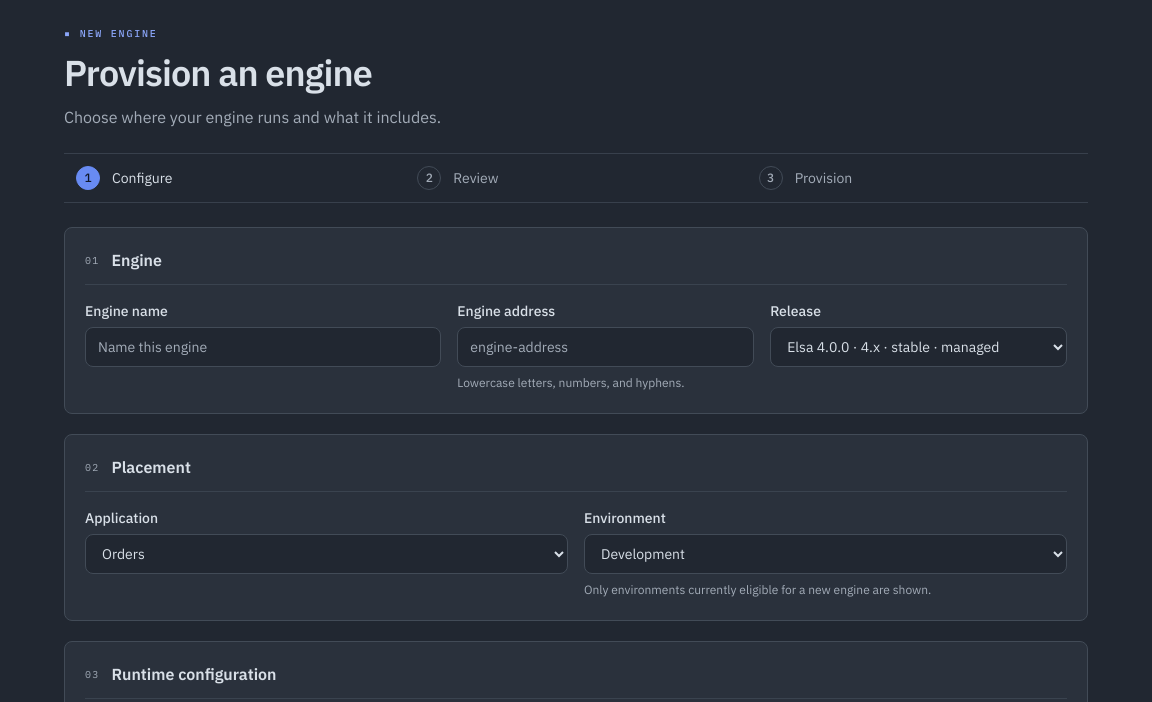
Test: EngineProvisioningPage › separates the included runtime snapshot from server findings during review
The width and height of the screenshot is (1152, 702).
Expected: the heading "Provision an engine" is shown, x1=64 y1=49 x2=372 y2=96
In the field labelled "Engine name": (263, 347) x1=85 y1=327 x2=441 y2=367, type "Orders engine"
(page scrolled)
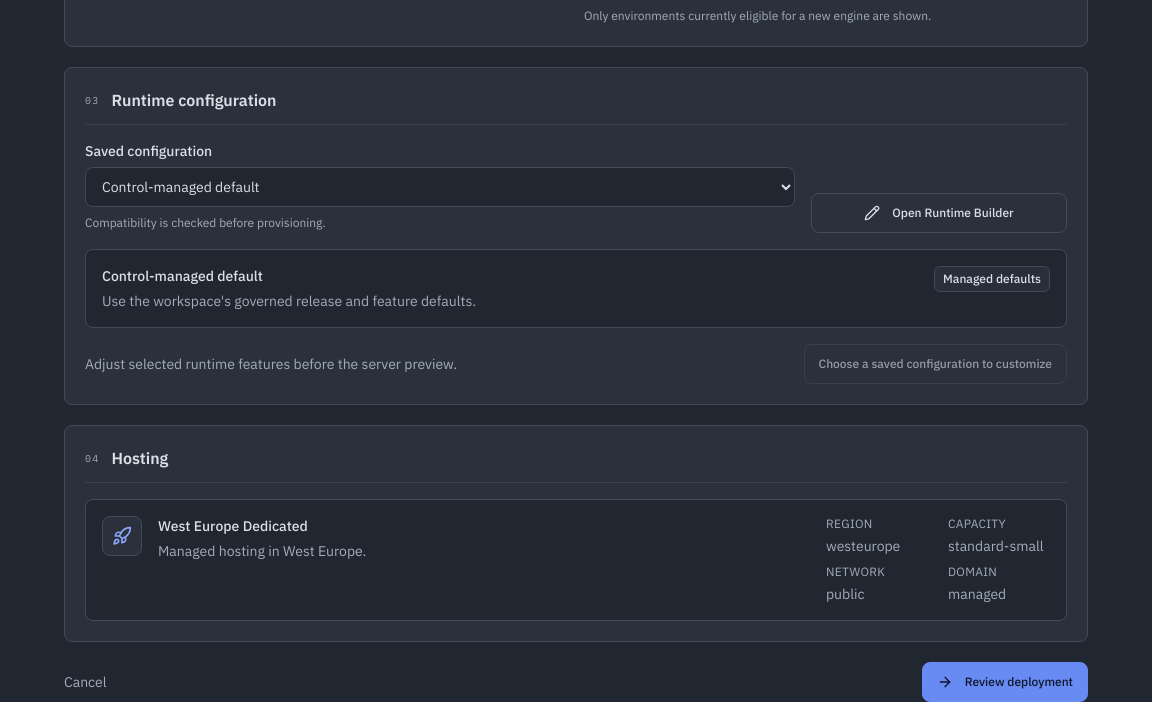
Click the button "Review deployment": click(1005, 682) x1=922 y1=662 x2=1088 y2=701
(page scrolled)
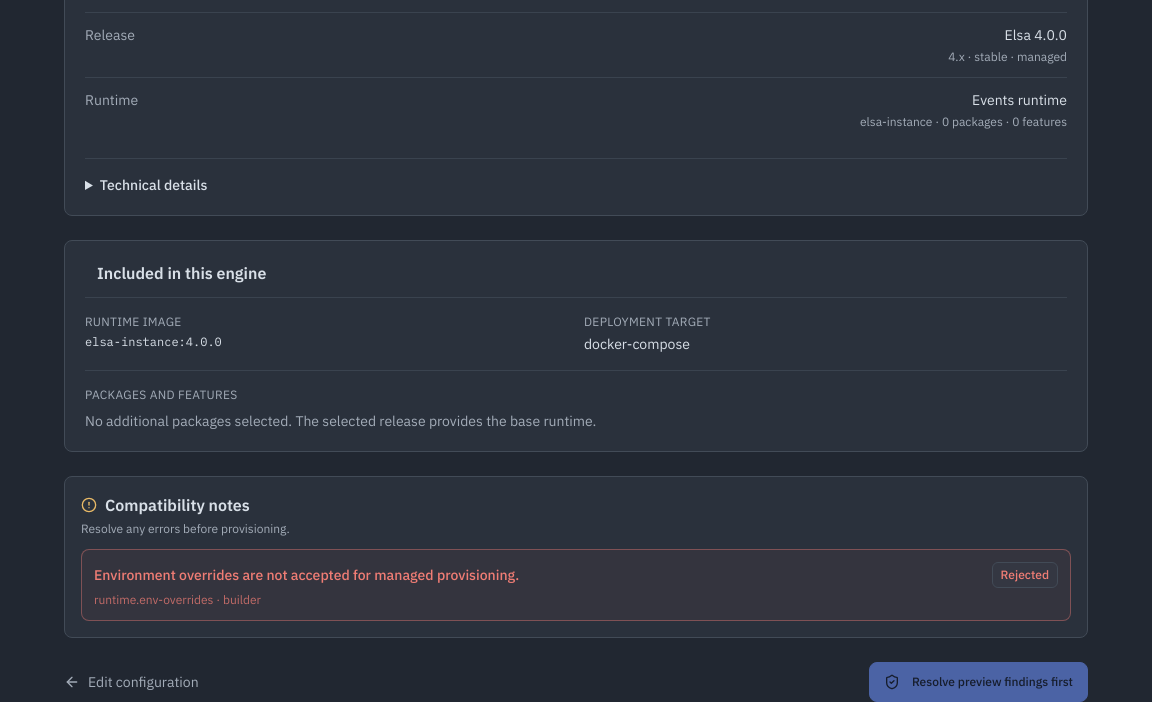
Expected: the heading "Compatibility notes" is shown, x1=105 y1=493 x2=250 y2=517
Expected: the text "Rejected" is shown, x1=992 y1=562 x2=1058 y2=588
Expected: the heading "Included in this engine" is shown, x1=97 y1=261 x2=266 y2=285
